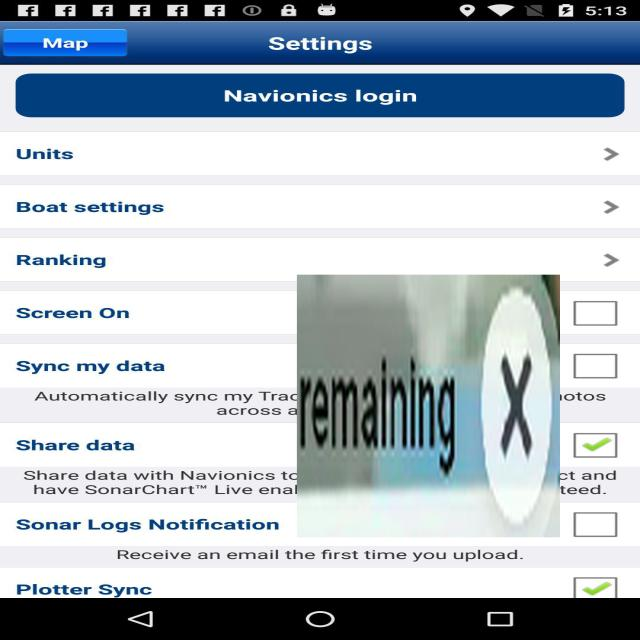misdirection: (297, 275, 560, 537)
